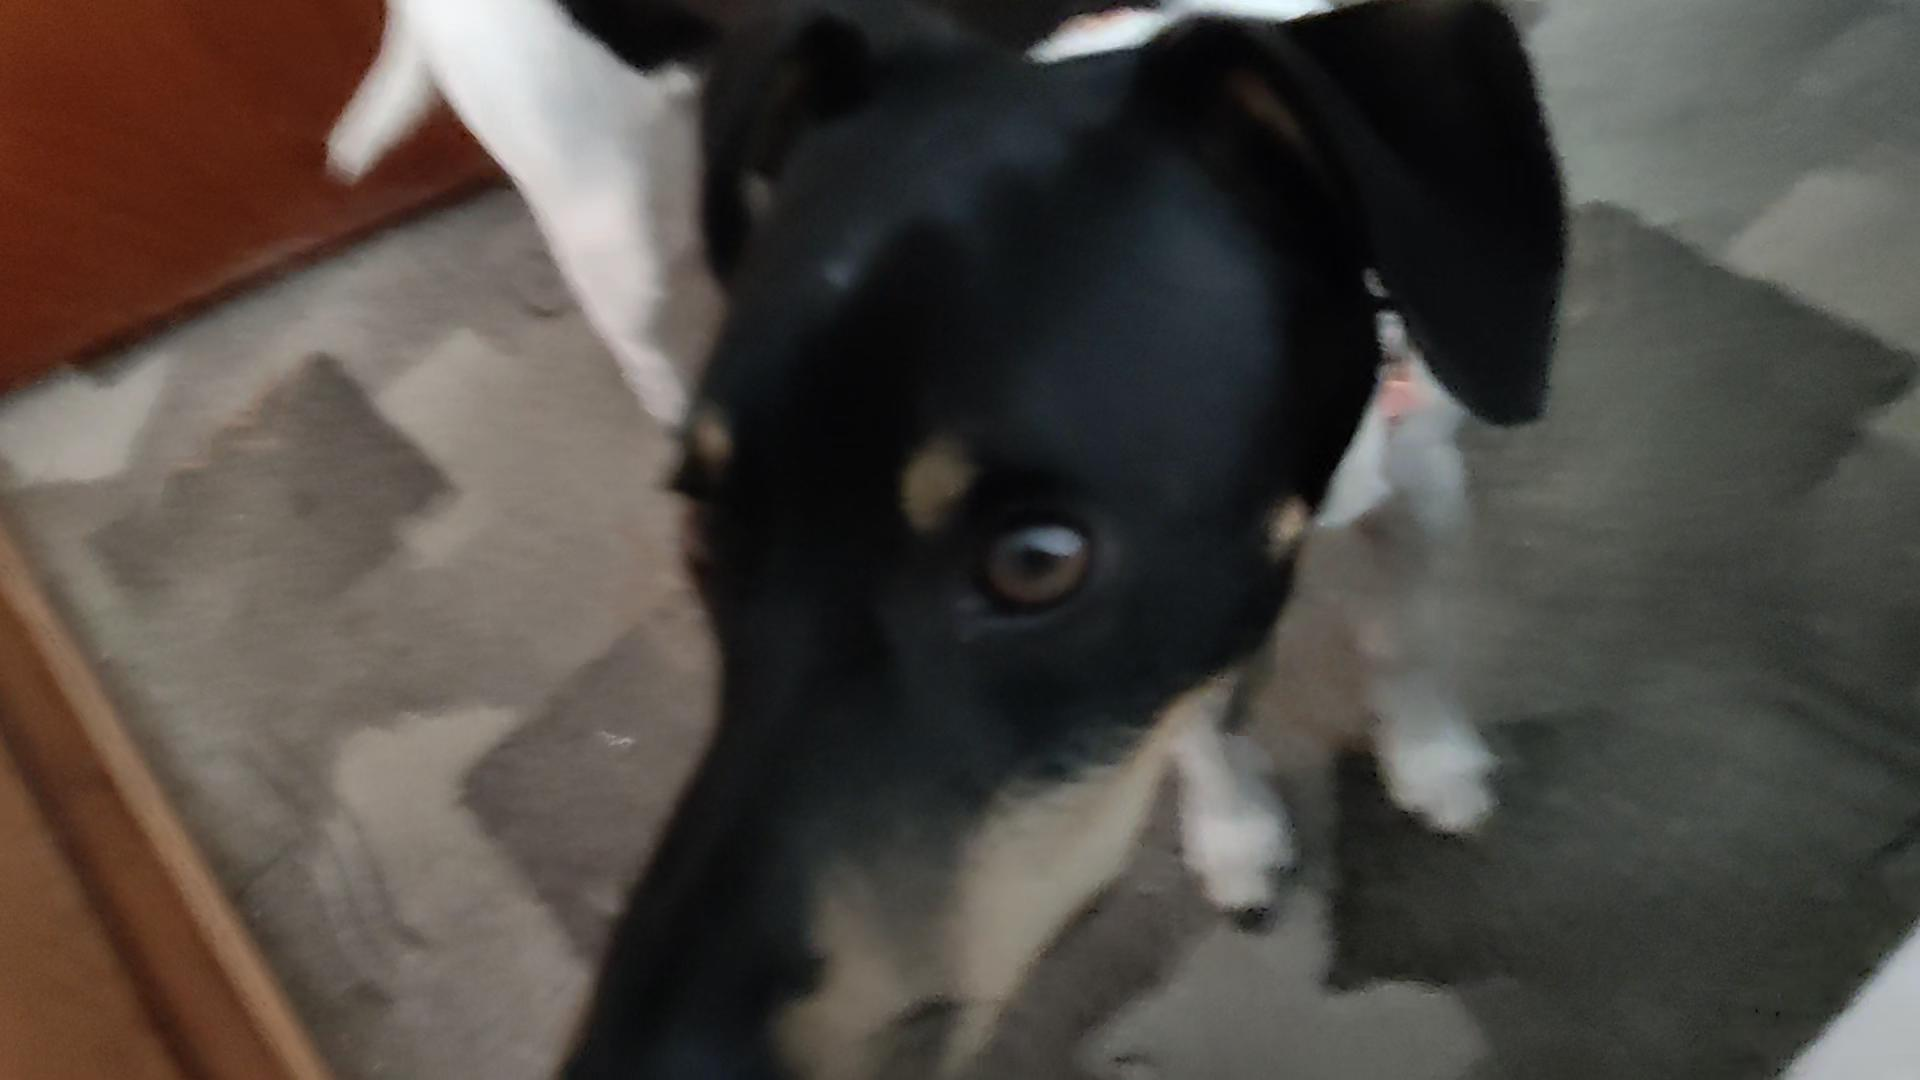Dog: (306, 0, 1585, 1079)
